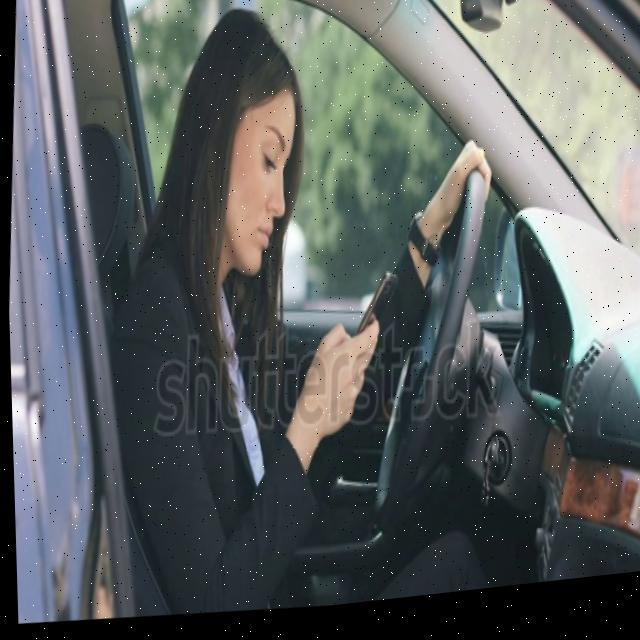PhoneCall: (347, 276, 397, 360)
